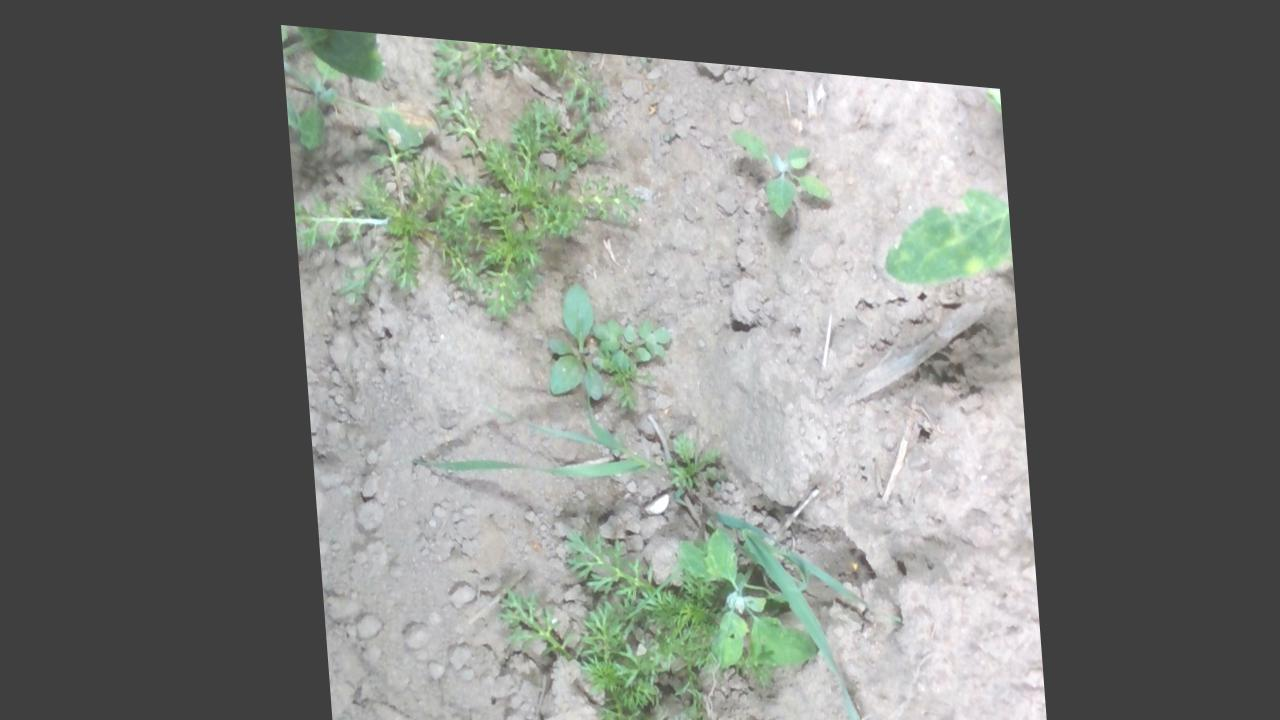weed: (727, 111, 834, 206)
